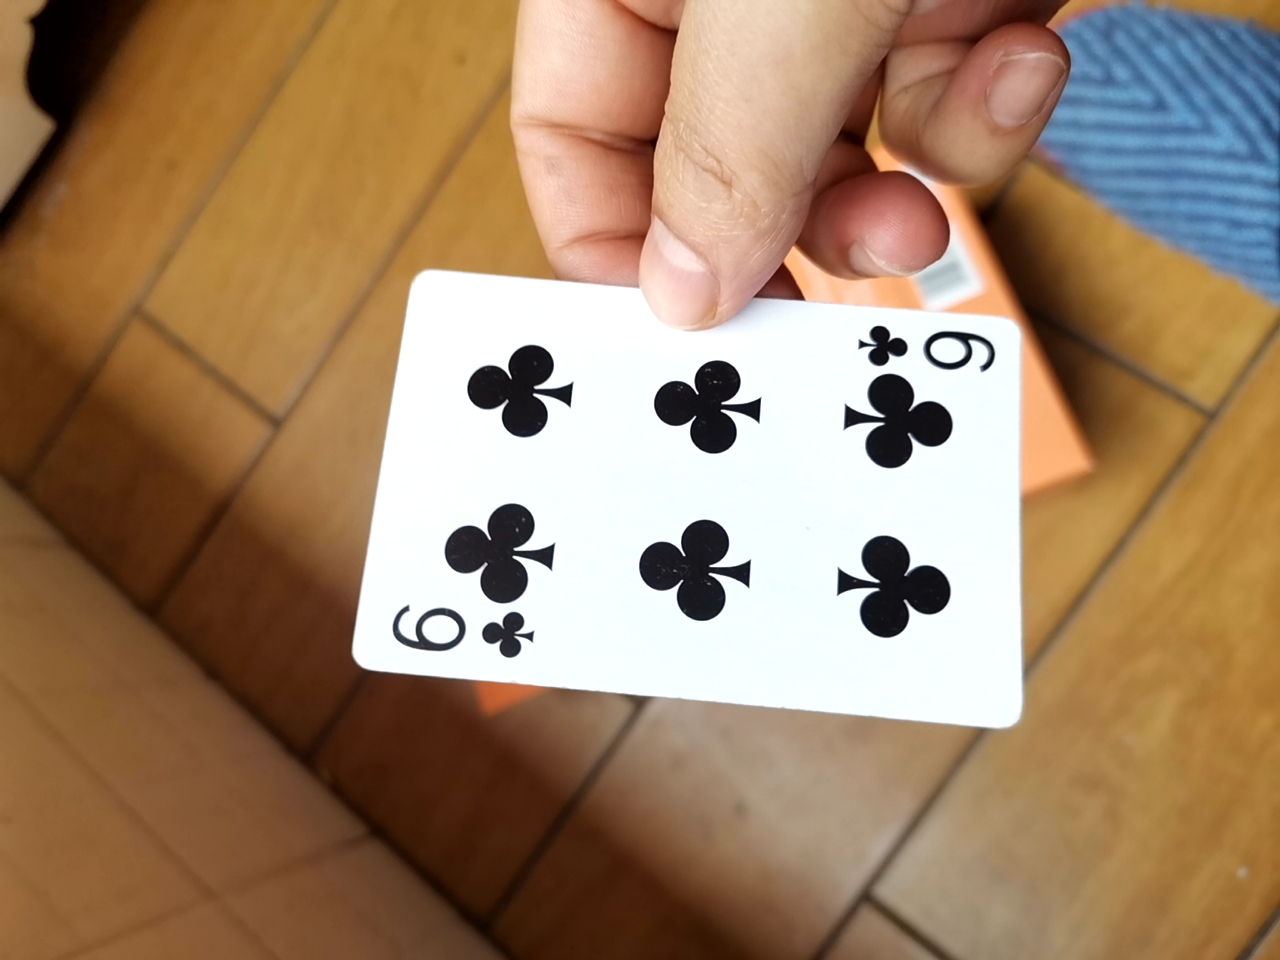mh 6: (338, 274, 1024, 725)
